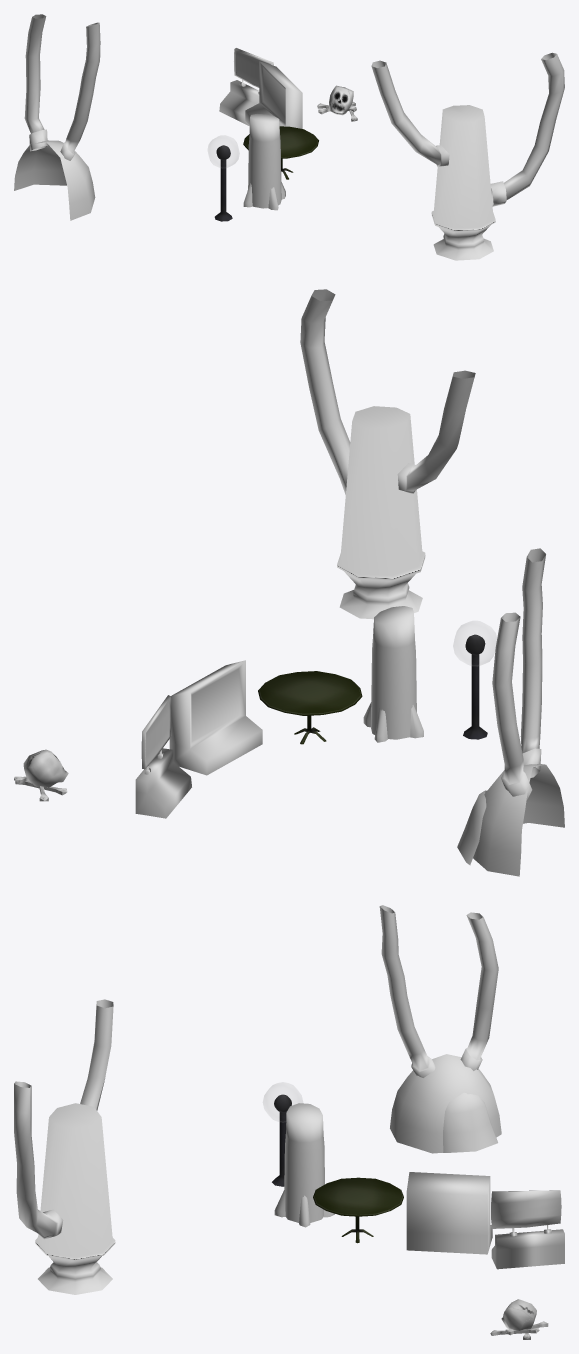
The model's file is esqueleto.fbx.
3 views of the same model, one above another, from view 1: azimuth 30°, elevation 25°; view 2: azimuth 150°, elevation 25°; view 3: azimuth 270°, elevation 25° (orthographic). The views are drawn at different scales.
Visible parts, largest first — view 1: TuboEnfeite, Entrada, Tubao, PC(Entrada), PC, GloboDeEnergia, Mesa, Pilha de Ossos; view 2: TuboEnfeite, Entrada, PC(Entrada), Tubao, PC, Mesa, GloboDeEnergia, Pilha de Ossos; view 3: TuboEnfeite, Entrada, PC(Entrada), PC, Tubao, Mesa, GloboDeEnergia, Pilha de Ossos.
Part boxes in pixels (x1=…): TuboEnfeite: x1=371, y1=52, x2=564, y2=260; Entrada: x1=14, y1=14, x2=100, y2=220; Tubao: x1=243, y1=114, x2=285, y2=210; PC(Entrada): x1=245, y1=61, x2=302, y2=128; PC: x1=219, y1=48, x2=273, y2=125; GloboDeEnergia: x1=208, y1=135, x2=239, y2=221; Mesa: x1=243, y1=126, x2=318, y2=179; Pilha de Ossos: x1=317, y1=85, x2=357, y2=121; TuboEnfeite: x1=300, y1=289, x2=475, y2=619; Entrada: x1=457, y1=548, x2=564, y2=876; PC(Entrada): x1=169, y1=660, x2=262, y2=775; Tubao: x1=363, y1=606, x2=423, y2=742; PC: x1=135, y1=695, x2=191, y2=818; Mesa: x1=258, y1=671, x2=362, y2=744; GloboDeEnergia: x1=453, y1=621, x2=496, y2=739; Pilha de Ossos: x1=14, y1=749, x2=68, y2=801; TuboEnfeite: x1=14, y1=999, x2=115, y2=1294; Entrada: x1=379, y1=905, x2=501, y2=1153; PC(Entrada): x1=406, y1=1172, x2=492, y2=1254; PC: x1=491, y1=1190, x2=564, y2=1269; Tubao: x1=274, y1=1103, x2=334, y2=1227; Mesa: x1=313, y1=1177, x2=403, y2=1243; GloboDeEnergia: x1=263, y1=1082, x2=302, y2=1186; Pilha de Ossos: x1=490, y1=1299, x2=548, y2=1339.
Size of the model in its own units: 12.13 by 6.83 by 13.51.
Materials: 4 (3 with a texture image).
